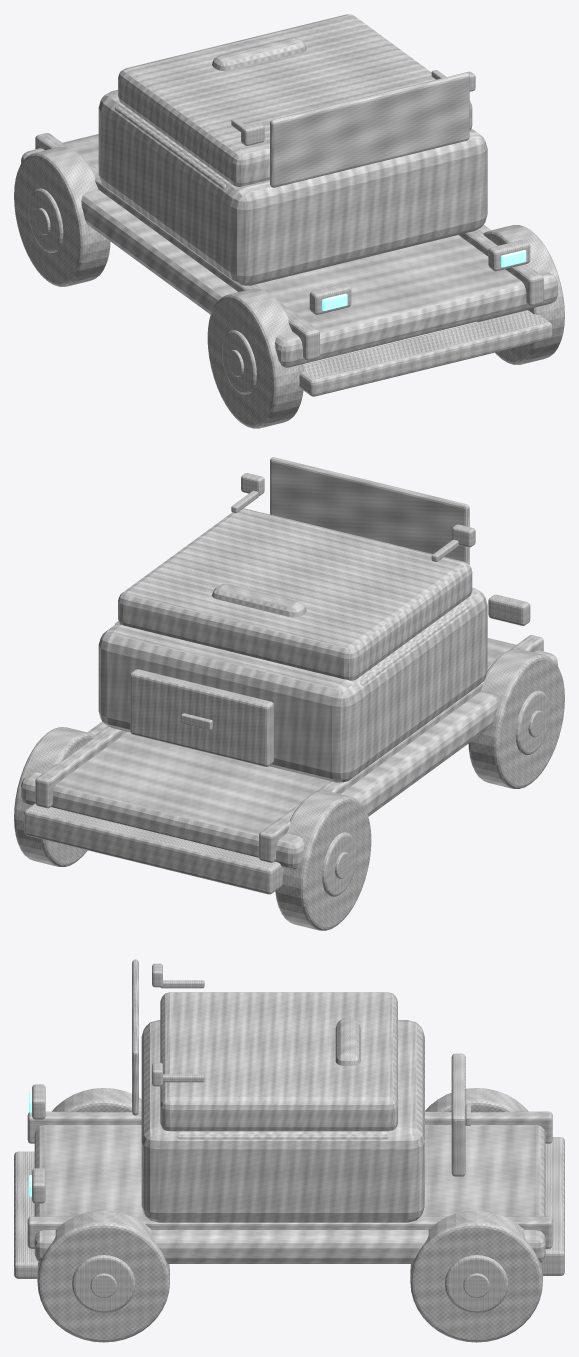
The model's file is explorer_variant_c.glb.
3 renders of one model, top to bottom at view 1: azimuth 30°, elevation 25°; view 2: azimuth 150°, elevation 25°; view 3: azimuth 270°, elevation 25°, orthographic. The views are drawn at different scales.
Parts seen in each view (by area): view 1: Armored tub, Tubular chassis.002, Amber upper shell, Panoramic glass, Front skid plate.002, Off-road tire.008, Off-road tire.009, Off-road tire.010, Longitudinal frame rail.004, Driver seat back.002, Wheel hub.009, Wheel hub.008 (+4 smaller); view 2: Amber upper shell, Armored tub, Tubular chassis.002, Panoramic glass, Rear storage hatch.002, Rear bumper.002, Off-road tire.009, Off-road tire.008, Off-road tire.011, Longitudinal frame rail.004, Longitudinal frame rail.005, Driver seat back.002 (+4 smaller); view 3: Amber upper shell, Armored tub, Tubular chassis.002, Off-road tire.011, Off-road tire.010, Longitudinal frame rail.005, Longitudinal frame rail.004, Rear bumper.002, Wheel hub.010, Wheel hub.011, Front skid plate.002, Rear storage hatch.002 (+9 smaller).
Part boxes in pixels (x1,y1,x2,y2): Armored tub: (98, 89, 487, 285); Tubular chassis.002: (21, 134, 557, 367); Amber upper shell: (118, 14, 472, 186); Panoramic glass: (270, 72, 469, 187); Front skid plate.002: (299, 310, 552, 396); Off-road tire.008: (207, 288, 303, 428); Off-road tire.009: (14, 147, 110, 286); Off-road tire.010: (477, 225, 564, 364); Longitudinal frame rail.004: (35, 133, 319, 360); Driver seat back.002: (212, 37, 306, 71); Wheel hub.009: (28, 188, 63, 252); Wheel hub.008: (222, 330, 256, 394); Amber upper shell: (118, 508, 472, 680); Armored tub: (98, 587, 487, 782); Tubular chassis.002: (21, 638, 557, 869); Panoramic glass: (270, 457, 469, 564); Rear storage hatch.002: (130, 669, 273, 766); Rear bumper.002: (24, 803, 283, 894); Off-road tire.009: (275, 790, 371, 930); Off-road tire.008: (468, 649, 564, 788); Off-road tire.011: (14, 727, 95, 866); Longitudinal frame rail.004: (259, 635, 543, 862); Longitudinal frame rail.005: (35, 726, 127, 808); Driver seat back.002: (212, 584, 306, 617); Amber upper shell: (160, 992, 397, 1131); Armored tub: (141, 1020, 424, 1222); Tubular chassis.002: (34, 1125, 545, 1263); Off-road tire.011: (410, 1210, 542, 1342); Off-road tire.010: (37, 1210, 169, 1342); Longitudinal frame rail.005: (27, 1216, 552, 1248); Longitudinal frame rail.004: (27, 1111, 552, 1143); Rear bumper.002: (541, 1137, 564, 1275); Wheel hub.010: (72, 1255, 135, 1312); Wheel hub.011: (445, 1255, 508, 1312); Front skid plate.002: (14, 1151, 38, 1278); Rear storage hatch.002: (451, 1053, 465, 1176).
Size of what is drawn, in the model's own units: 2.44 by 2.16 by 3.99.
Materials: 8 (8 with a texture image).
